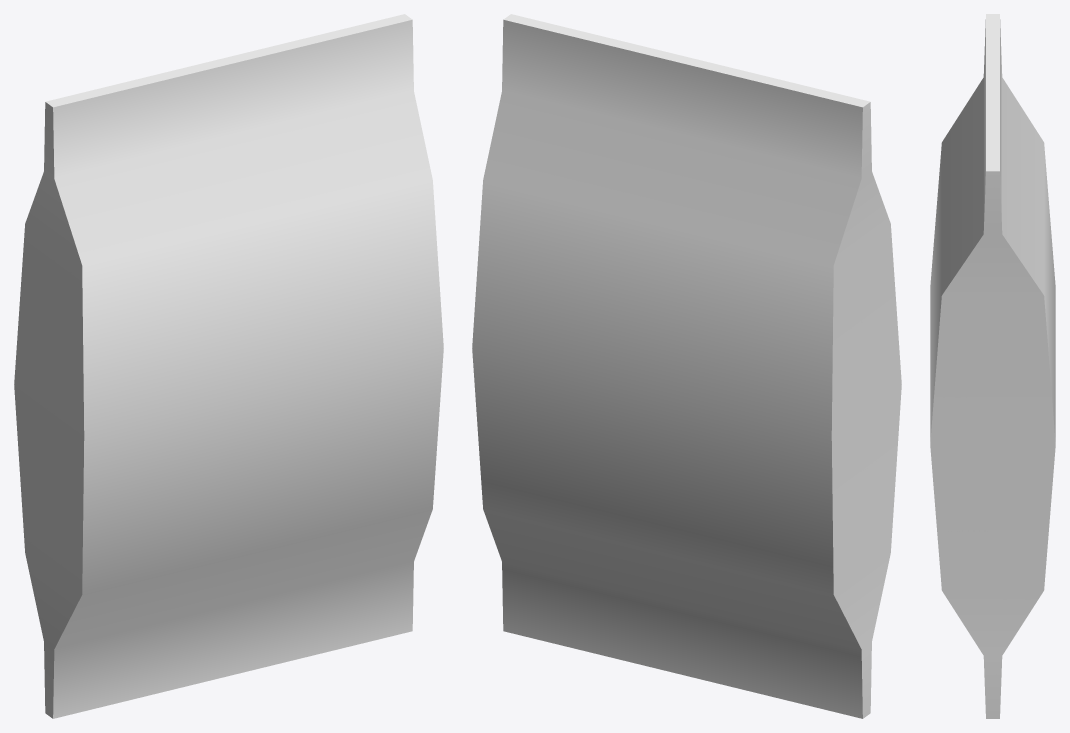
File: snack.glb
The picture shows the model from 3 angles, left to right: view 1: azimuth 30°, elevation 25°; view 2: azimuth 150°, elevation 25°; view 3: azimuth 270°, elevation 25°; orthographic projection. The views are drawn at different scales.
Visible parts, largest first — view 1: Snack; view 2: Snack; view 3: Snack.
Part boxes in pixels (left/top/right/bottom): Snack: left=14, top=14, right=443, bottom=718; Snack: left=472, top=14, right=901, bottom=718; Snack: left=930, top=14, right=1055, bottom=718.
Bounding box in the file's own units: 0.16 × 0.26 × 0.054.
1 material, 1 textured.
